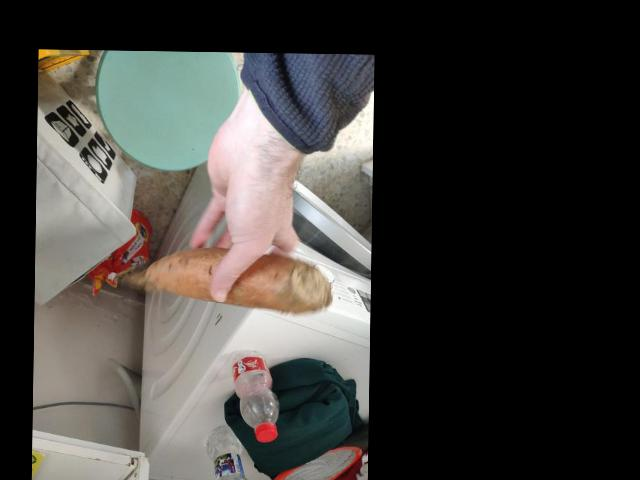sweet_potato: (146, 249, 304, 296)
